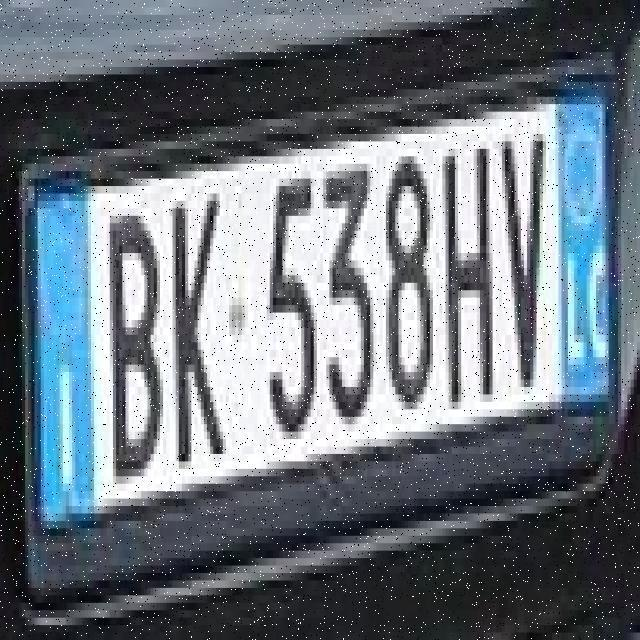LicensePlate: (8, 54, 640, 559)
